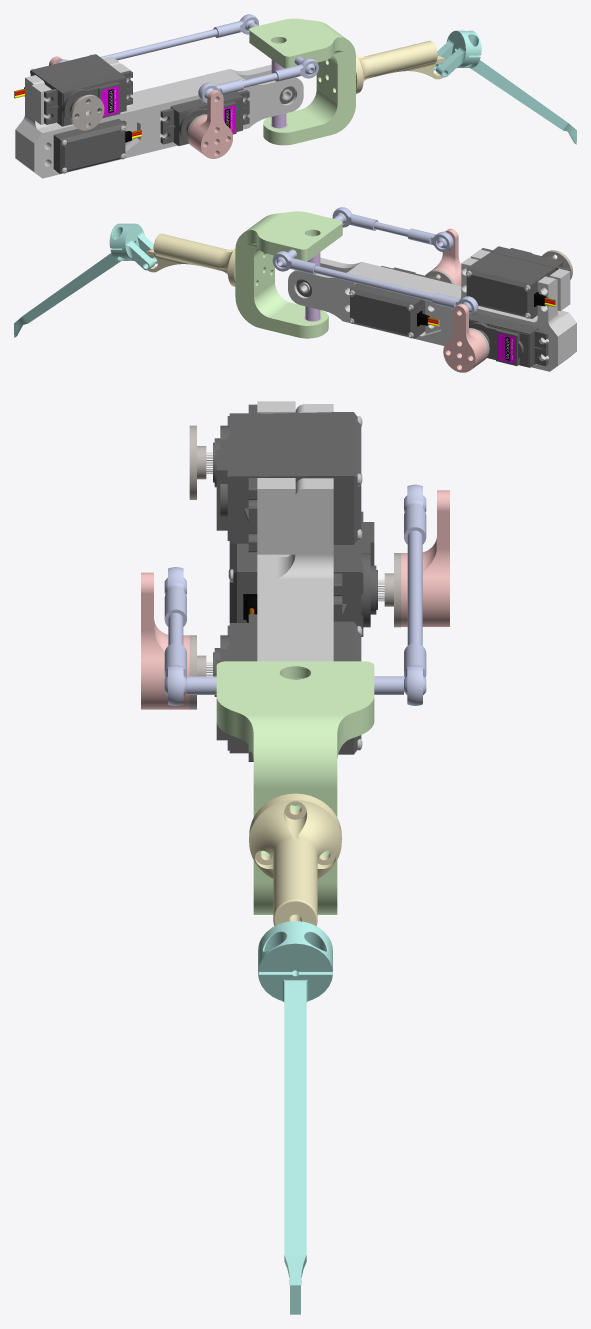
The picture shows the model from 3 angles, top to bottom: view 1: azimuth 30°, elevation 25°; view 2: azimuth 150°, elevation 25°; view 3: azimuth 270°, elevation 25°; orthographic projection. The views are drawn at different scales.
Parts seen in each view (by area): view 1: PRT - ServoHousingOne - PRT-1, PRT - OutputBracket - LuLe-1, ProtoServo-9, ProtoServo-6, PRT - Knee - LuLe-2, ProtoServo-5, PRT - KneeBracket - LuLe-1, PRT - LinkX - Lule-1, Ass servo-6, PRT - M4 Threaded Rod - LuLe-2, PRT - M4 TieRod - LuLe-2, PRT - SpacerToBowden - LuLe-2 (+5 smaller); view 2: PRT - ServoHousingOne - PRT-1, PRT - OutputBracket - LuLe-1, ProtoServo-9, ProtoServo-5, PRT - Knee - LuLe-2, ProtoServo-6, PRT - KneeBracket - LuLe-1, PRT - LinkX - Lule-4, PRT - M4 Threaded Rod - LuLe-2, PRT - LinkX - Lule-1, PRT - M4 TieRod - LuLe-1, PRT - M4 TieRod - LuLe-3 (+7 smaller); view 3: PRT - OutputBracket - LuLe-1, ProtoServo-9, PRT - Knee - LuLe-2, PRT - ServoHousingOne - PRT-1, PRT - KneeBracket - LuLe-1, ProtoServo-6, ProtoServo-5, PRT - LinkX - Lule-4, PRT - LinkX - Lule-1, PRT - SpacerToBowden - LuLe-1, PRT - M4 Threaded Rod - LuLe-2, PRT - M4 TieRod - LuLe-2 (+1 smaller).
Boxes of the visible parts, <box> form: PRT - ServoHousingOne - PRT-1: <box>15,56,303,178</box>; PRT - OutputBracket - LuLe-1: <box>249,18,355,145</box>; ProtoServo-9: <box>14,54,132,126</box>; ProtoServo-6: <box>53,119,141,173</box>; PRT - Knee - LuLe-2: <box>433,30,576,144</box>; ProtoServo-5: <box>148,74,249,145</box>; PRT - KneeBracket - LuLe-1: <box>356,40,445,93</box>; PRT - LinkX - Lule-1: <box>189,90,232,158</box>; Ass servo-6: <box>70,94,104,130</box>; PRT - M4 Threaded Rod - LuLe-2: <box>100,29,217,60</box>; PRT - M4 TieRod - LuLe-2: <box>273,58,318,81</box>; PRT - SpacerToBowden - LuLe-2: <box>31,82,51,124</box>; PRT - ServoHousingOne - PRT-1: <box>288,257,576,371</box>; PRT - OutputBracket - LuLe-1: <box>235,211,342,338</box>; ProtoServo-9: <box>466,246,569,318</box>; ProtoServo-5: <box>349,266,445,338</box>; PRT - Knee - LuLe-2: <box>14,223,157,337</box>; ProtoServo-6: <box>469,312,548,367</box>; PRT - KneeBracket - LuLe-1: <box>145,233,235,286</box>; PRT - LinkX - Lule-4: <box>443,303,487,372</box>; PRT - M4 Threaded Rod - LuLe-2: <box>314,265,433,301</box>; PRT - LinkX - Lule-1: <box>431,228,461,285</box>; PRT - M4 TieRod - LuLe-1: <box>407,228,453,252</box>; PRT - M4 TieRod - LuLe-3: <box>272,251,318,274</box>; PRT - OutputBracket - LuLe-1: <box>216,661,374,914</box>; ProtoServo-9: <box>206,404,362,552</box>; PRT - Knee - LuLe-2: <box>258,921,332,1314</box>; PRT - ServoHousingOne - PRT-1: <box>257,404,333,661</box>; PRT - KneeBracket - LuLe-1: <box>249,793,341,925</box>; ProtoServo-6: <box>228,511,384,636</box>; ProtoServo-5: <box>206,614,362,761</box>; PRT - LinkX - Lule-4: <box>401,490,449,626</box>; PRT - LinkX - Lule-1: <box>141,572,189,709</box>; PRT - SpacerToBowden - LuLe-1: <box>257,478,295,554</box>; PRT - M4 Threaded Rod - LuLe-2: <box>407,530,422,645</box>; PRT - M4 TieRod - LuLe-2: <box>164,643,186,705</box>.
Size of the model in its own units: 0.3425 by 0.1145 by 0.0832.
